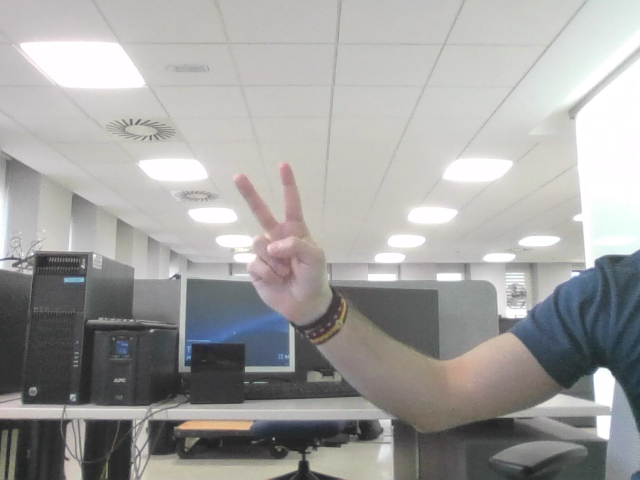2Dedos: (242, 174, 311, 276)
